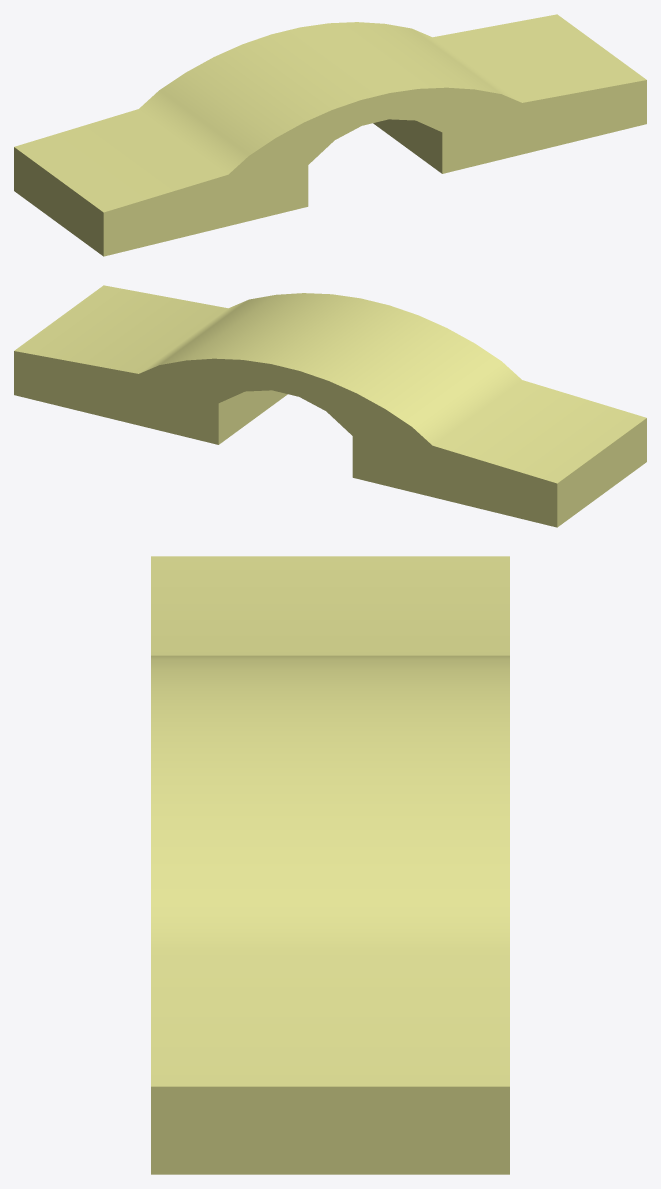
The model's file is Bridge06.fbx.
The picture shows the model from 3 angles, top to bottom: view 1: azimuth 30°, elevation 25°; view 2: azimuth 150°, elevation 25°; view 3: azimuth 270°, elevation 25°; orthographic projection. The views are drawn at different scales.
Visible parts, largest first — view 1: bridge006; view 2: bridge006; view 3: bridge006.
Part boxes in pixels (x1,y1,x2,y2): bridge006: (14,14,646,256); bridge006: (14,285,646,527); bridge006: (151,556,509,1174).
Size of the model in its own units: 853 by 141 by 244.
